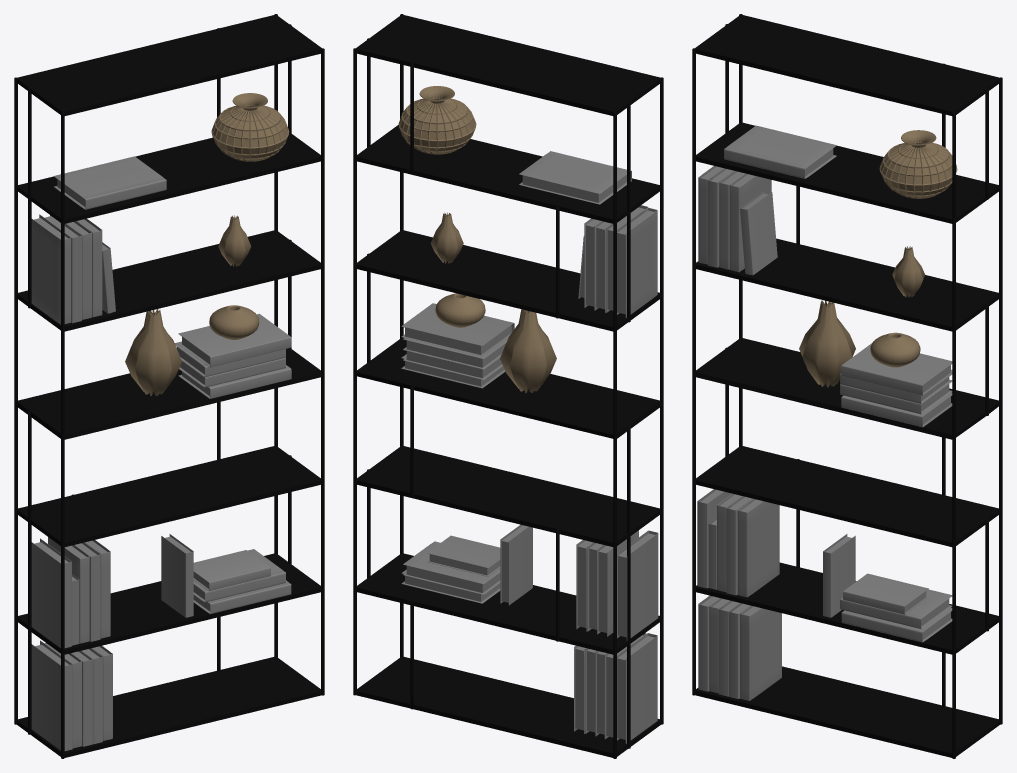
The model's file is metal shelf.FBX.
3 views of the same model, side by side, from view 1: azimuth 30°, elevation 25°; view 2: azimuth 150°, elevation 25°; view 3: azimuth 330°, elevation 25° (orthographic).
Visible parts, largest first — view 1: metal shelf, vase 01, Cover 01 copy, cover 013, cover 008, Cover 01, vase 02, cover 010, cover 015, cover 006, vase 03, Cover 005 (+17 smaller); view 2: metal shelf, vase 01, vase 02, cover 008, Cover 01 copy, cover 013, Cover 01, cover 010, cover 015, cover 006, vase 03, Cover 01 copy001 (+24 smaller); view 3: metal shelf, vase 01, Cover 004, Cover 01 copy, Cover 008, vase 02, cover 010, cover 007, cover 006, cover 015, Cover 003, Cover 01 copy001 (+17 smaller).
Boxes of the visible parts, x1,y1,x2,y2 form: metal shelf: [14, 14, 324, 758]; vase 01: [211, 93, 289, 161]; Cover 01 copy: [54, 156, 166, 209]; cover 013: [31, 641, 72, 751]; cover 008: [31, 538, 71, 648]; Cover 01: [31, 214, 71, 324]; vase 02: [125, 309, 181, 395]; cover 010: [178, 313, 291, 367]; cover 015: [161, 534, 193, 617]; cover 006: [193, 550, 270, 590]; vase 03: [209, 305, 259, 339]; Cover 005: [48, 537, 89, 643]; metal shelf: [353, 14, 663, 758]; vase 01: [398, 86, 476, 154]; vase 02: [500, 309, 556, 392]; cover 008: [617, 530, 658, 640]; Cover 01 copy: [519, 151, 631, 204]; cover 013: [617, 633, 657, 743]; Cover 01: [625, 207, 657, 317]; cover 010: [401, 303, 514, 356]; cover 015: [500, 524, 532, 605]; cover 006: [427, 535, 500, 576]; vase 03: [435, 293, 485, 327]; Cover 01 copy001: [403, 541, 500, 594]; metal shelf: [692, 14, 1002, 758]; vase 01: [879, 130, 957, 198]; Cover 004: [737, 498, 779, 597]; Cover 01 copy: [724, 125, 836, 178]; Cover 008: [740, 605, 781, 700]; vase 02: [799, 300, 855, 387]; cover 010: [841, 343, 952, 395]; cover 007: [740, 191, 777, 275]; cover 006: [843, 573, 928, 614]; cover 015: [823, 534, 855, 617]; Cover 003: [729, 173, 771, 272]; Cover 01 copy001: [840, 589, 952, 629].
Size of the model in its own units: 80.97 by 190 by 26.01.
